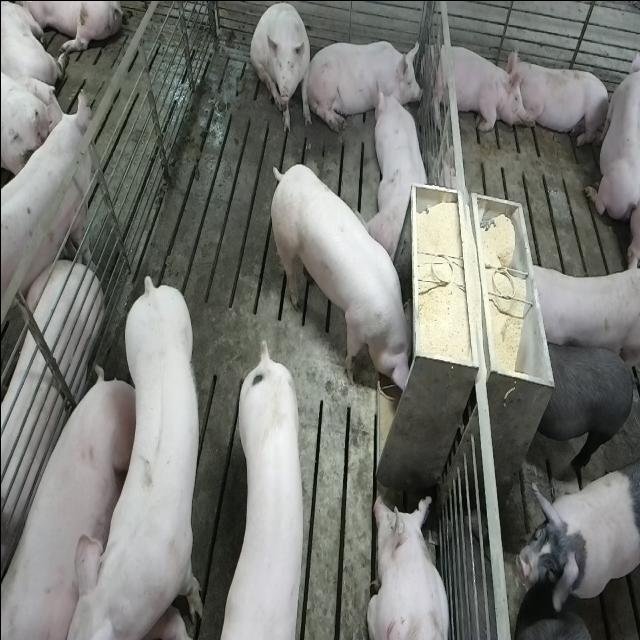Feeding: (265, 161, 411, 395)
Lateral_lying: (0, 371, 134, 640), (0, 261, 102, 601)
Sitting: (250, 1, 312, 136)
Standing: (68, 268, 204, 636), (218, 343, 308, 640), (0, 94, 91, 333), (512, 460, 638, 614), (528, 338, 636, 481), (520, 256, 638, 368), (510, 610, 604, 640)
Sternal_lying: (366, 489, 450, 640), (370, 85, 431, 262), (310, 33, 418, 130), (508, 50, 612, 150), (584, 34, 638, 224), (425, 36, 522, 135)
